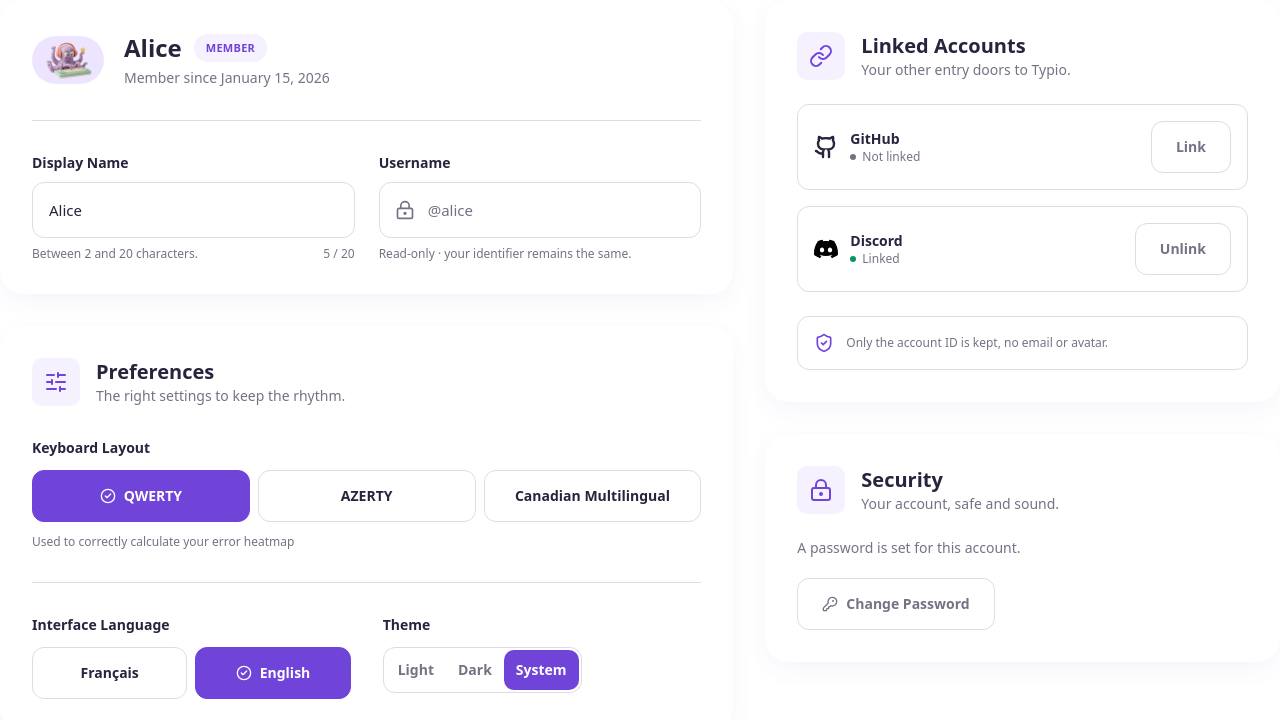
Test: ProfileForm (en) › affiche sur le champ l'erreur renvoyée par le serveur (nom déjà pris)
The width and height of the screenshot is (1280, 720).
Replace the text in the field labelled "Display Name" with "Bob" at (193, 210), box x1=32 y1=182 x2=355 y2=238
(page scrolled)
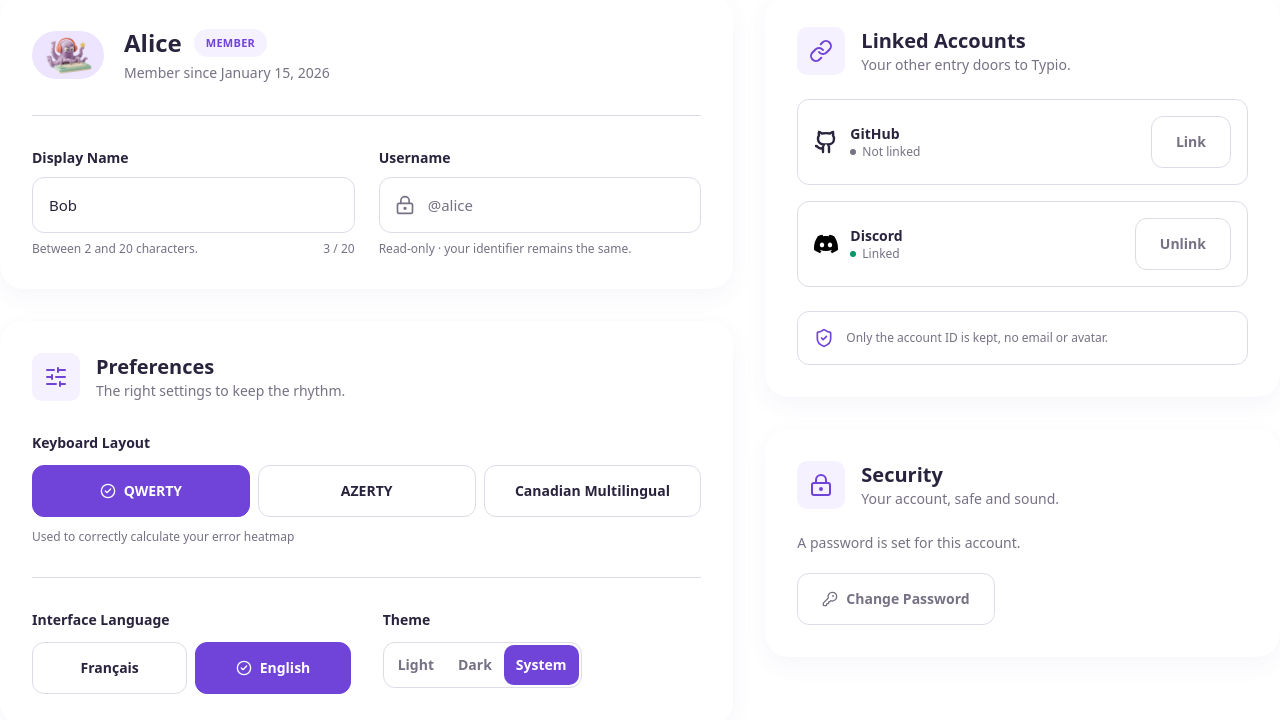
Submit the form "Display Name"
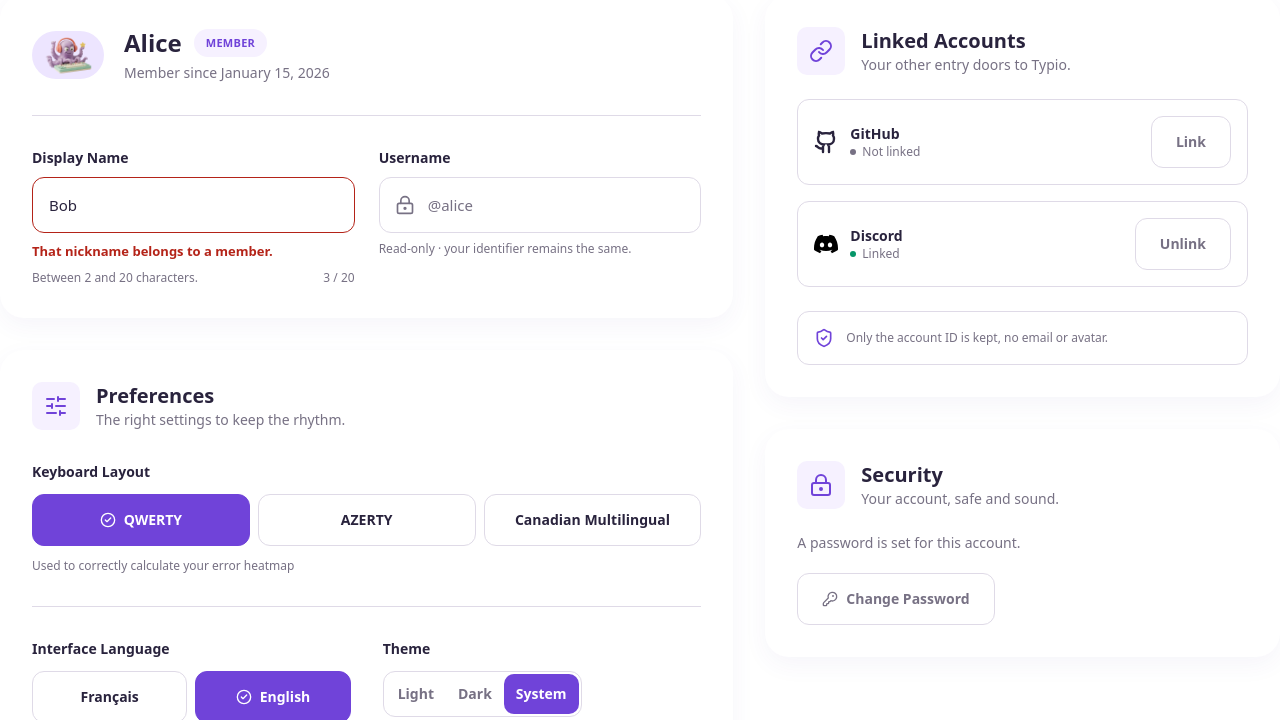
Check: the text "That nickname belongs to a member." is shown, box x1=32 y1=242 x2=273 y2=260
